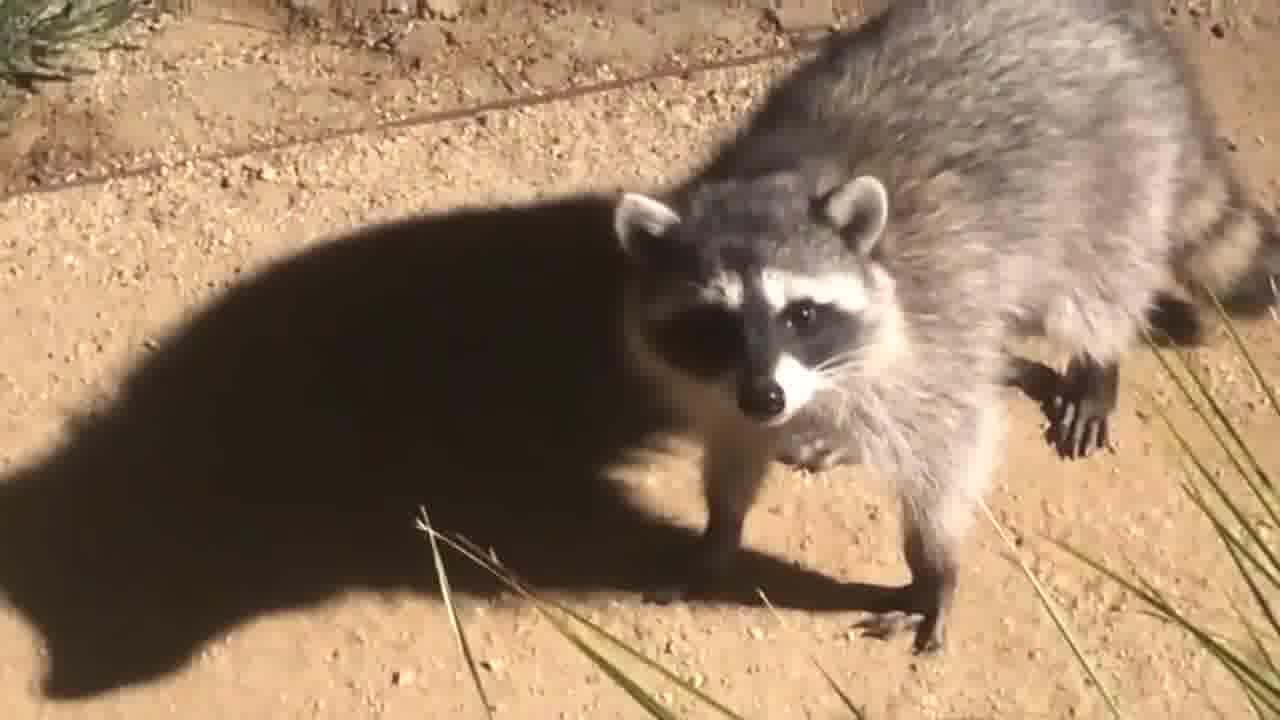raccoon: (617, 0, 1280, 654)
